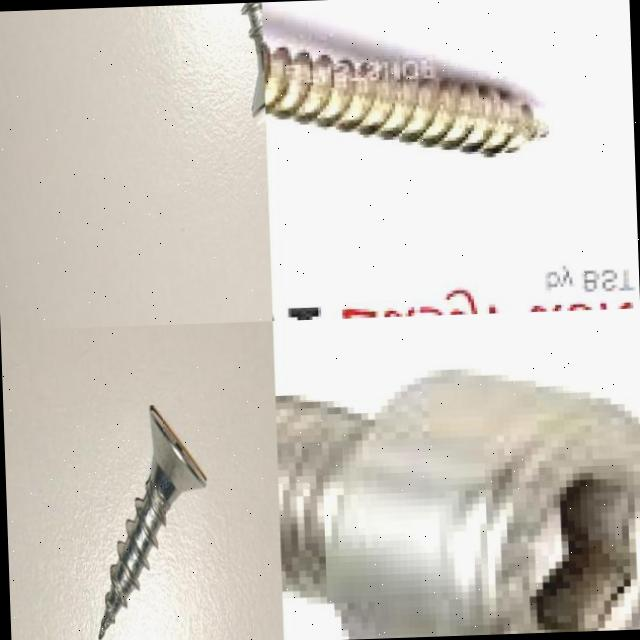Screw: (275, 368, 640, 639), (263, 42, 548, 157), (98, 407, 206, 640), (241, 2, 265, 118)
